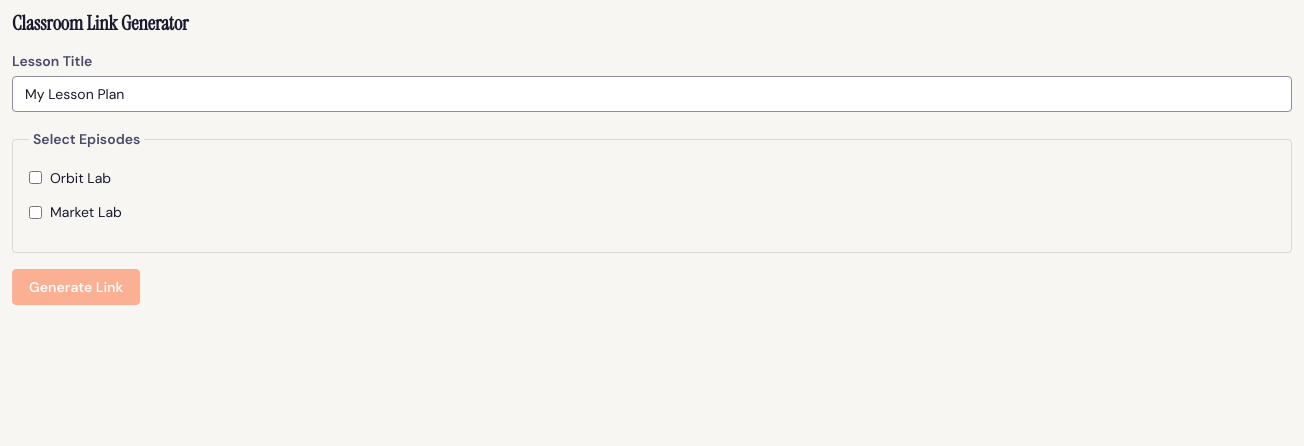
LinkGenerator › generates a URL when Generate Link is clicked
Click the checkbox labelled "Orbit Lab" at (36,178), box left=29, top=172, right=42, bottom=184
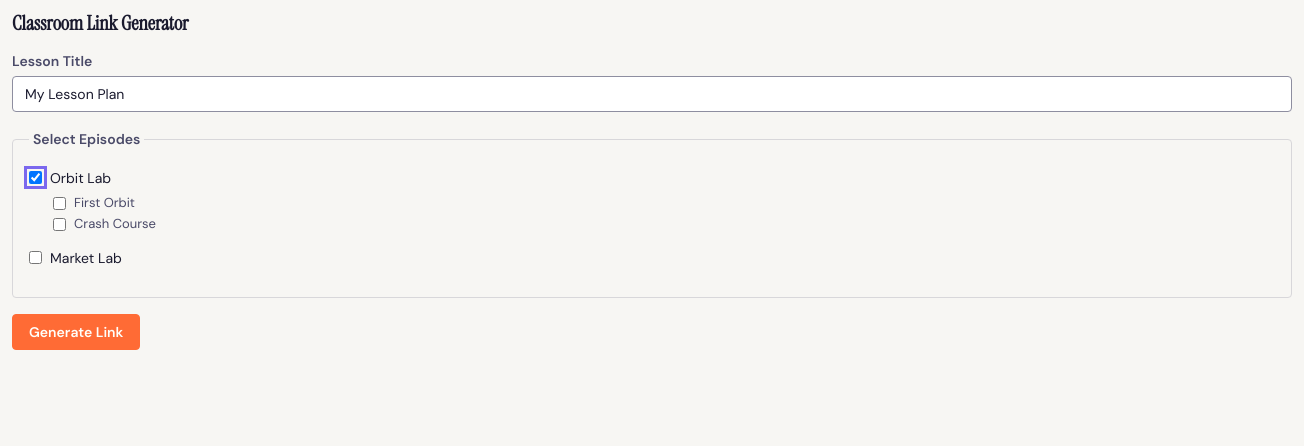
Click the button "Generate Link" at (76,332), box left=12, top=314, right=140, bottom=350
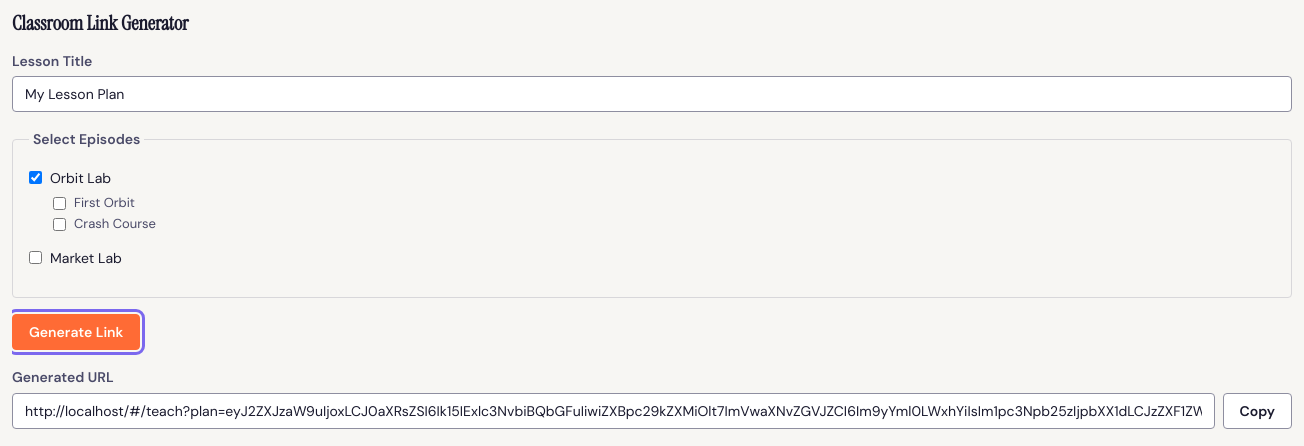
Check: the field labelled "Generated URL" is shown, box left=12, top=392, right=1215, bottom=428
